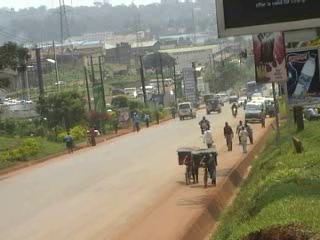Car: (201, 99, 224, 114), (249, 92, 267, 102), (238, 95, 249, 109), (227, 92, 239, 104)
Motorcycle: (196, 114, 211, 137), (229, 102, 238, 119)
